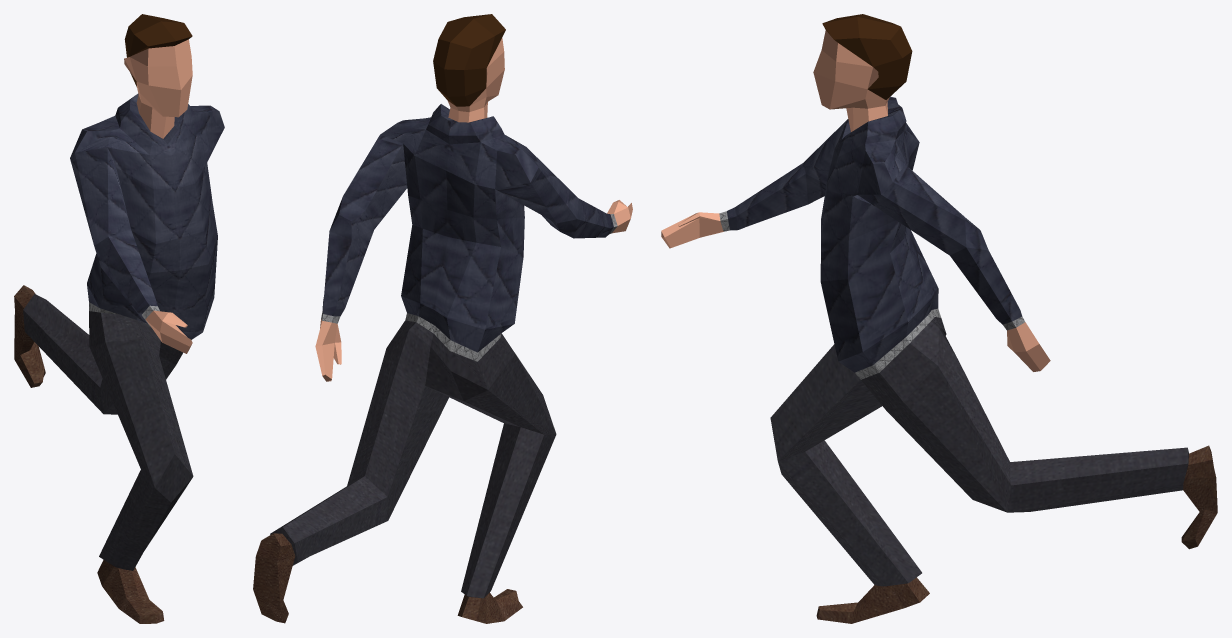
Rendered from AutumnManA.008.glb.
3 renders of one model, left to right at view 1: azimuth 30°, elevation 25°; view 2: azimuth 150°, elevation 25°; view 3: azimuth 270°, elevation 25°, orthographic. The views are drawn at different scales.
Parts seen in each view (by area): view 1: AutumnManA.008; view 2: AutumnManA.008; view 3: AutumnManA.008.
Part boxes in pixels (<box>): AutumnManA.008: <box>14,14,224,623</box>; AutumnManA.008: <box>253,14,632,623</box>; AutumnManA.008: <box>661,14,1217,623</box>.
Bounding box in the file's own units: 0.4757 × 1.57 × 1.29.
Materials: 1 (1 with a texture image).
